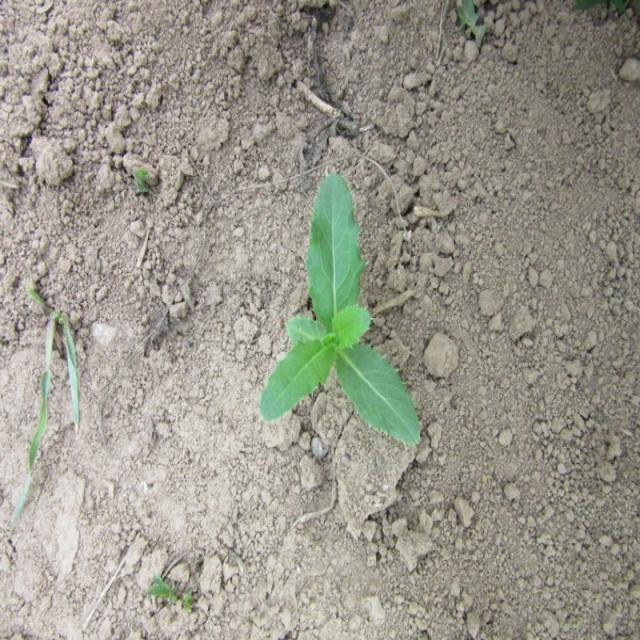cs: (255, 170, 427, 456)
